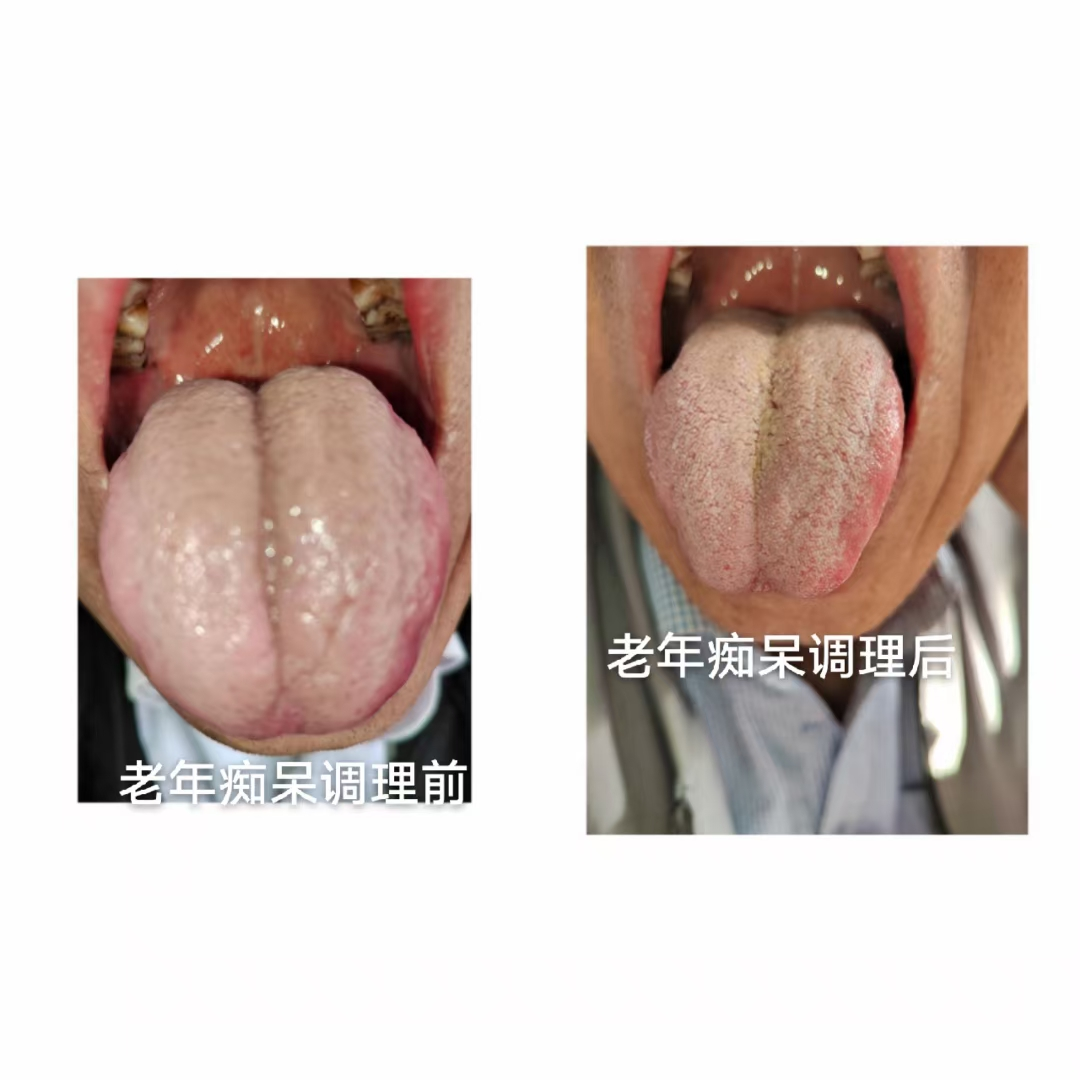baitaishe: (99, 367, 451, 741), (644, 307, 904, 597)
chihenshe: (242, 401, 292, 696)
hongshe: (99, 367, 451, 741)
